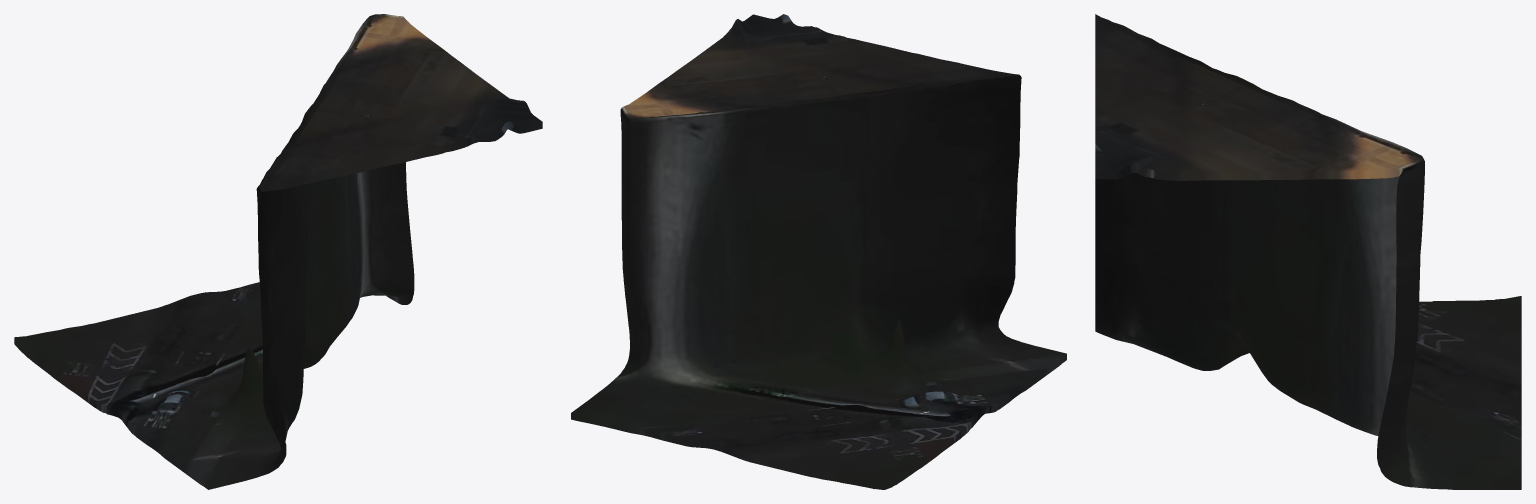
File: z20-167778-405235-h0-yup-uvflip-v3-world.glb
The picture shows the model from 3 angles, left to right: view 1: azimuth 30°, elevation 25°; view 2: azimuth 150°, elevation 25°; view 3: azimuth 270°, elevation 25°; orthographic projection. The views are drawn at different scales.
Size of the model in its own units: 30.16 by 25.68 by 30.32.
1 material, 1 textured.
